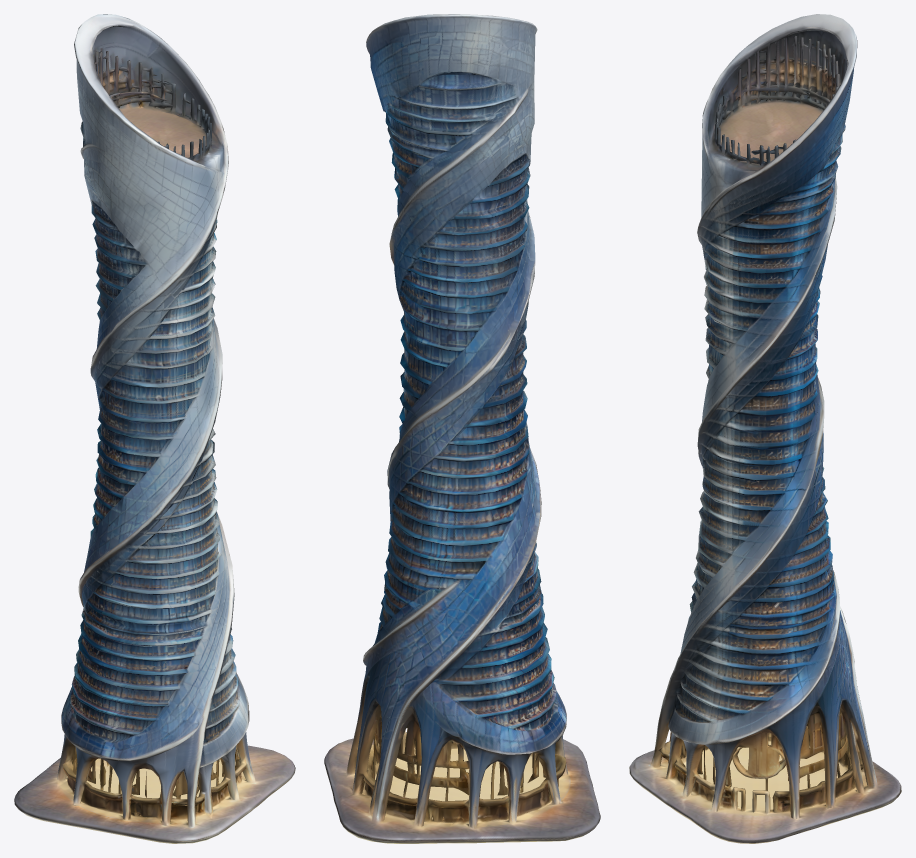
Rendered from twisted_tower.glb.
The picture shows the model from 3 angles, left to right: view 1: azimuth 30°, elevation 25°; view 2: azimuth 150°, elevation 25°; view 3: azimuth 270°, elevation 25°; orthographic projection. The views are drawn at different scales.
Visible parts, largest first — view 1: tripo_node_705cae49-8f74-48c8-bdbd-bd7ff66e6ea1; view 2: tripo_node_705cae49-8f74-48c8-bdbd-bd7ff66e6ea1; view 3: tripo_node_705cae49-8f74-48c8-bdbd-bd7ff66e6ea1.
Part boxes in pixels (x1,y1,x2,y2): tripo_node_705cae49-8f74-48c8-bdbd-bd7ff66e6ea1: (14, 14, 295, 843); tripo_node_705cae49-8f74-48c8-bdbd-bd7ff66e6ea1: (324, 14, 600, 843); tripo_node_705cae49-8f74-48c8-bdbd-bd7ff66e6ea1: (629, 14, 901, 843).
Bounding box in the file's own units: 0.3565 × 1 × 0.3295.
Materials: 1 (1 with a texture image).
